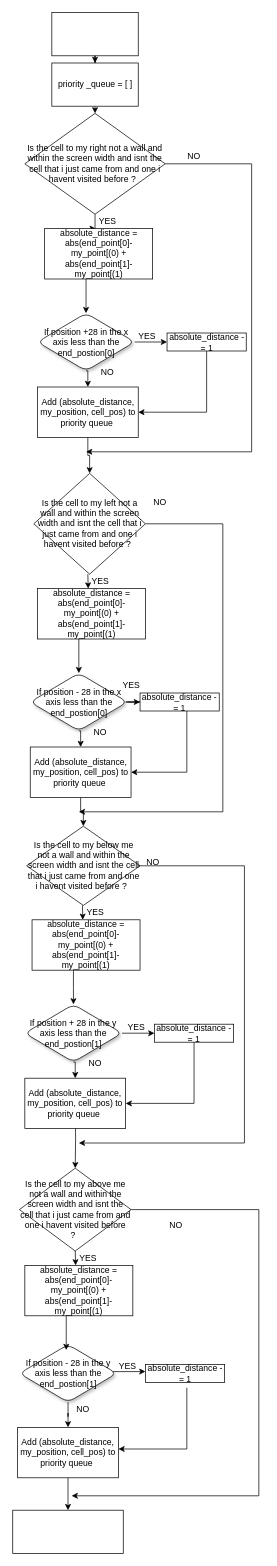
The diagram is 277 pixels wide and 1566 high, and some of its shapes have lost their labels. Each missing label, with the centre of its shape:
"return priority_queue" belongs at point (67, 1531).
"Sub process adjacent_search" belongs at point (94, 34).
